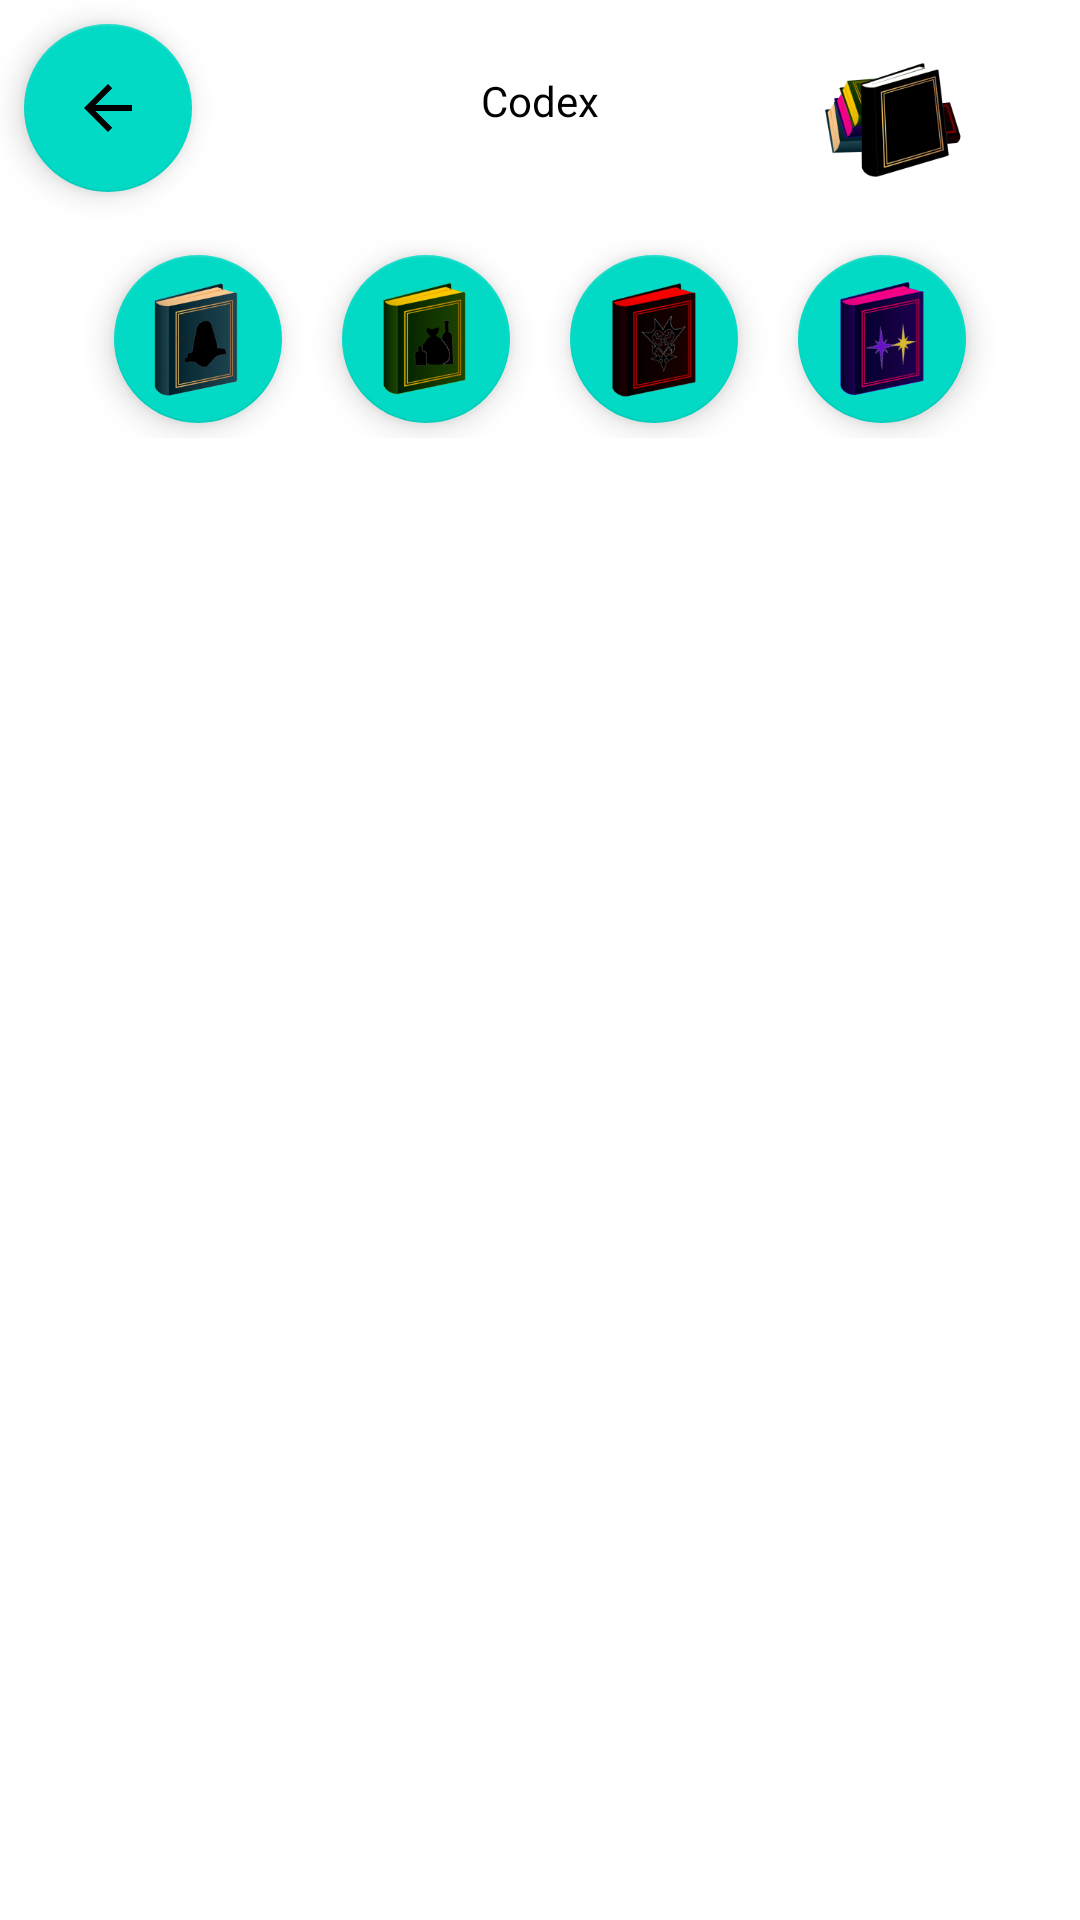

Screen size 1080*1920. Icon name, then its center in pixels as point (x, y):
charcodex: point (198, 339)
